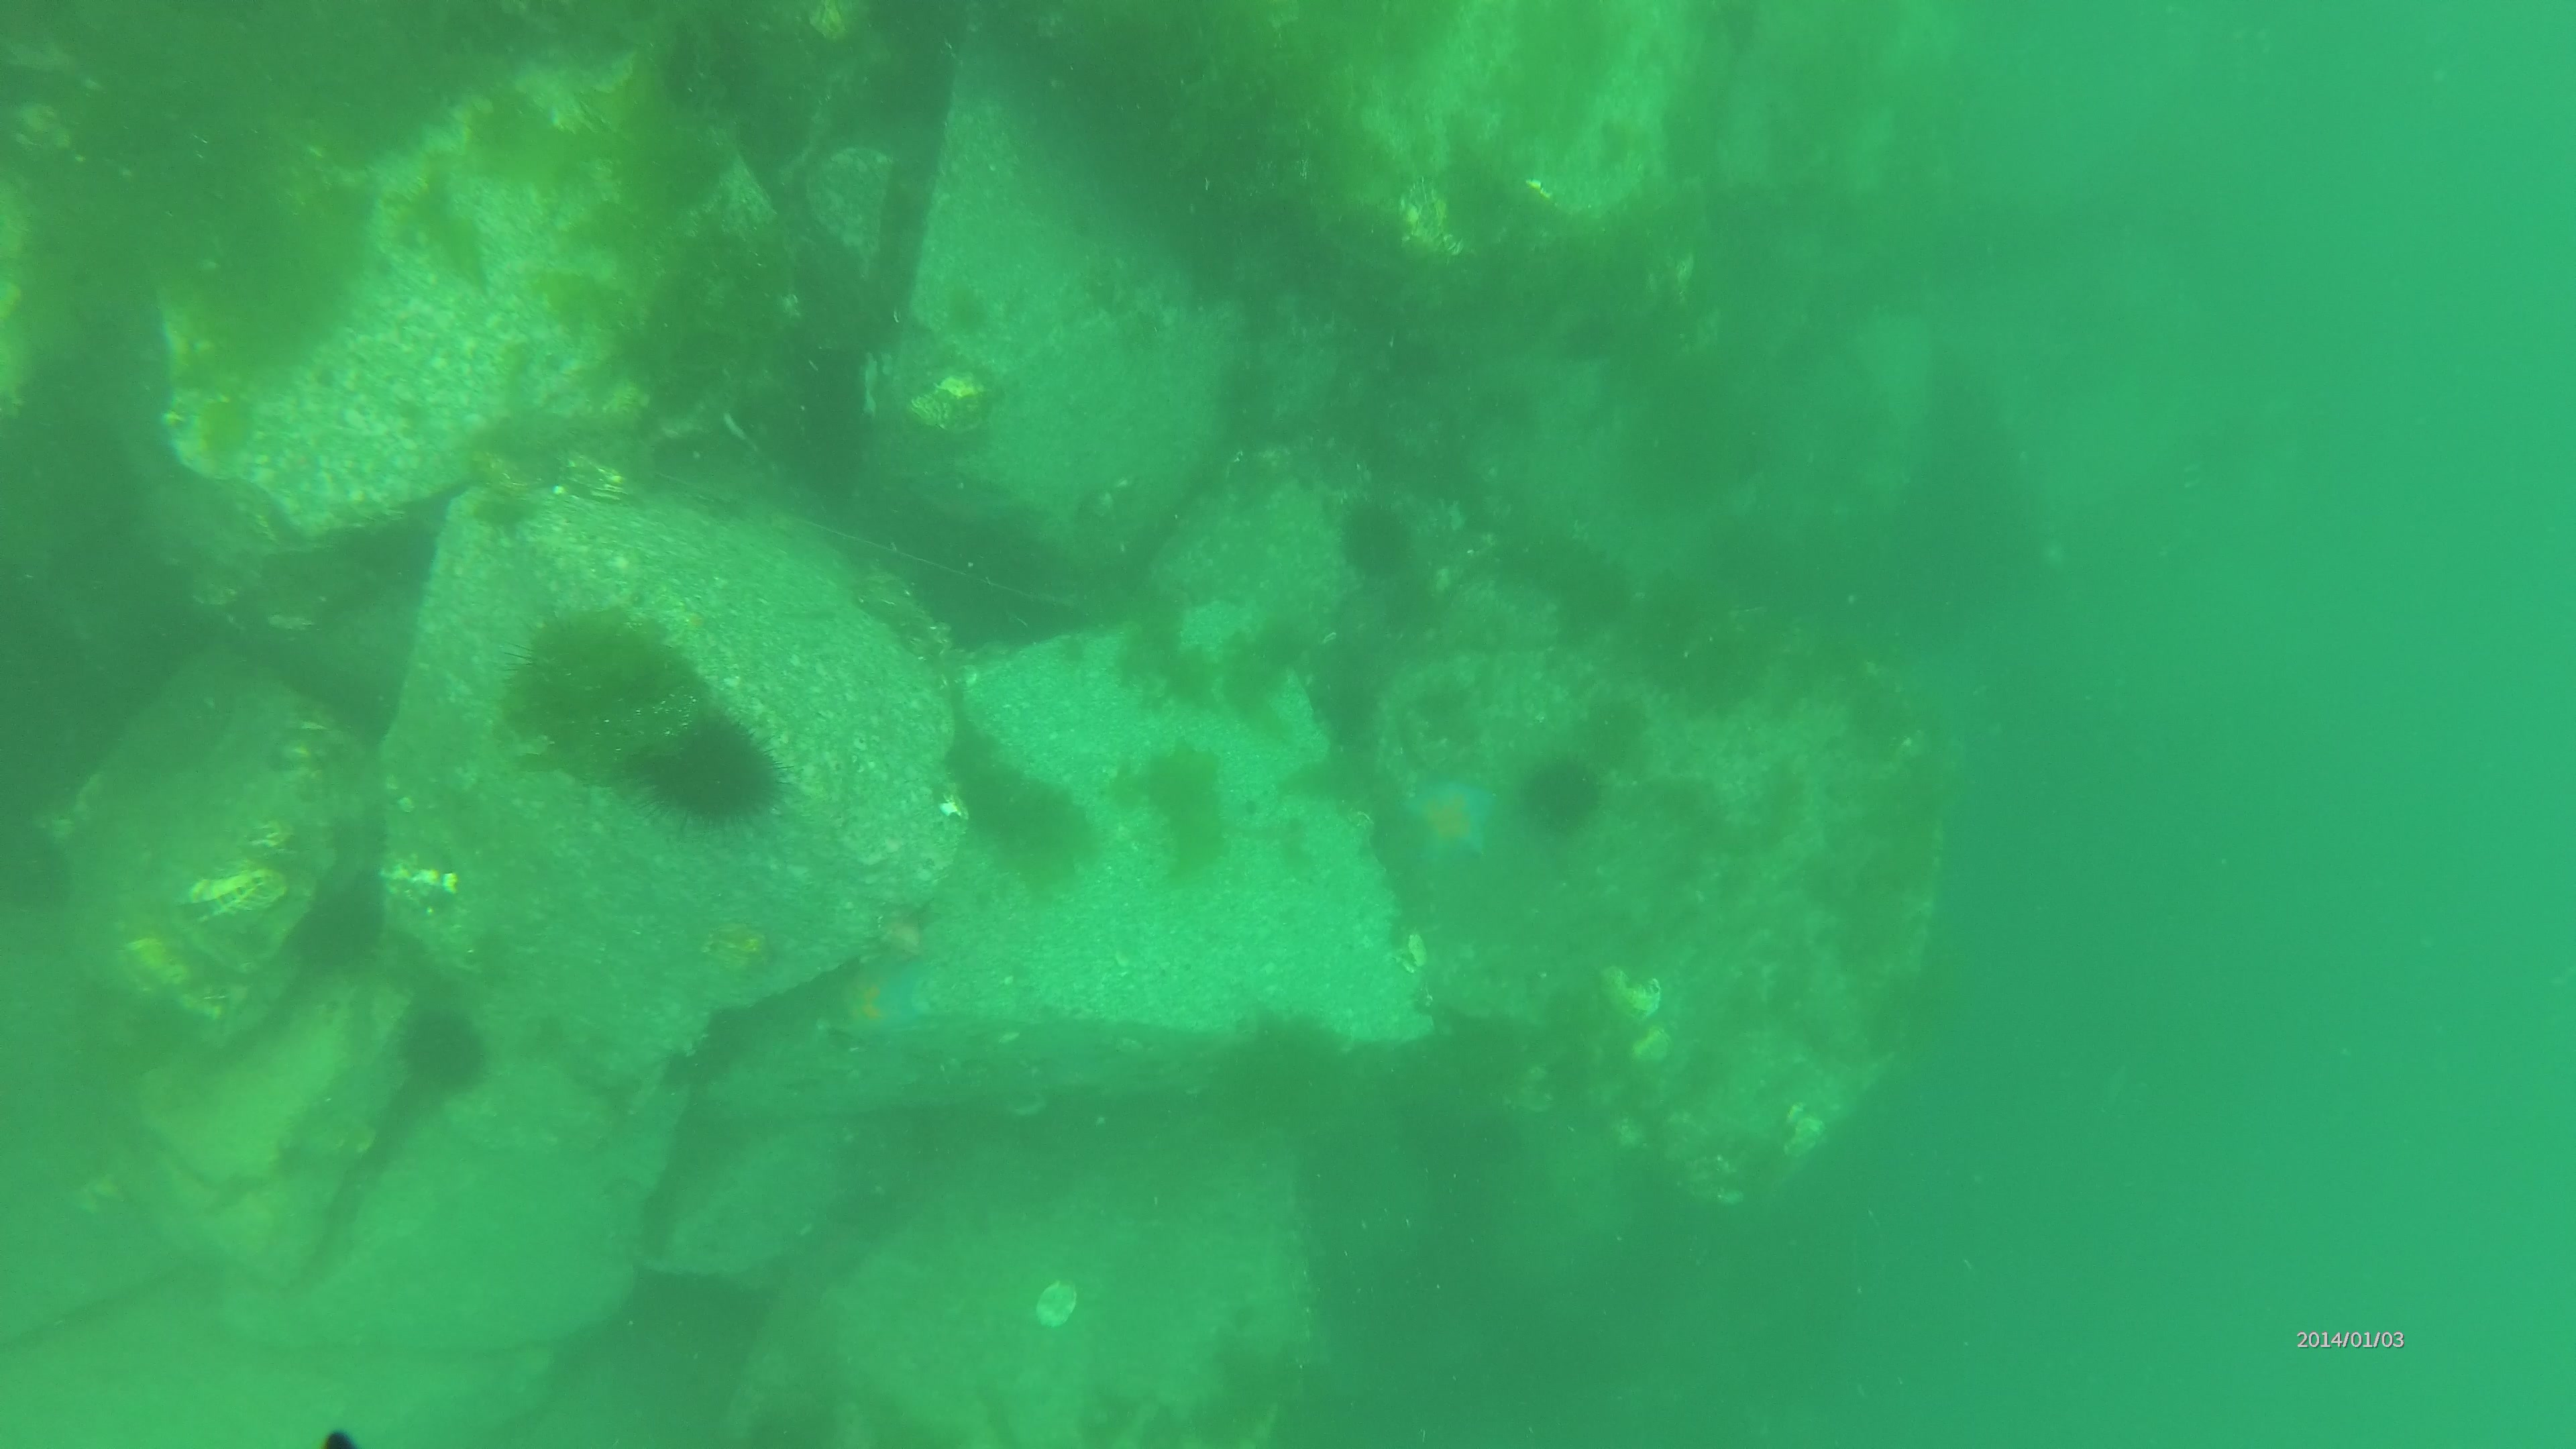echinus: (617, 713, 793, 840), (292, 879, 391, 977), (400, 1005, 490, 1102), (1523, 763, 1606, 837), (1336, 502, 1412, 577)
scallop: (1599, 966, 1667, 1033)
starfish: (833, 950, 932, 1046), (1405, 777, 1506, 863)
